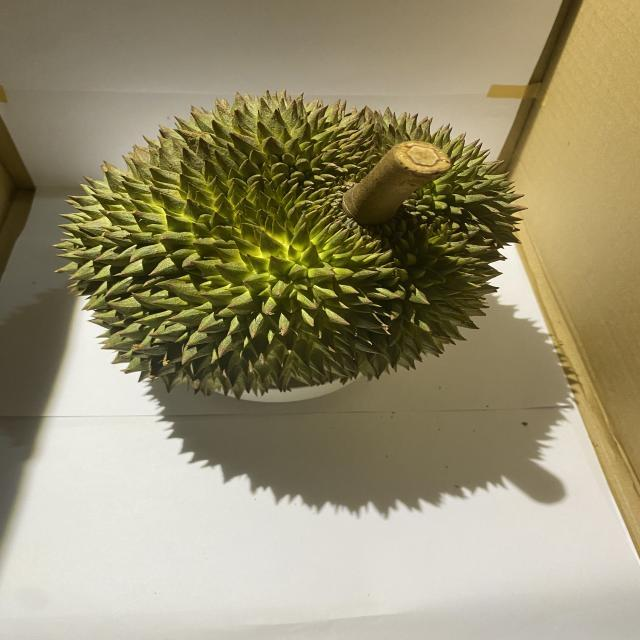immature: (52, 88, 527, 400)
